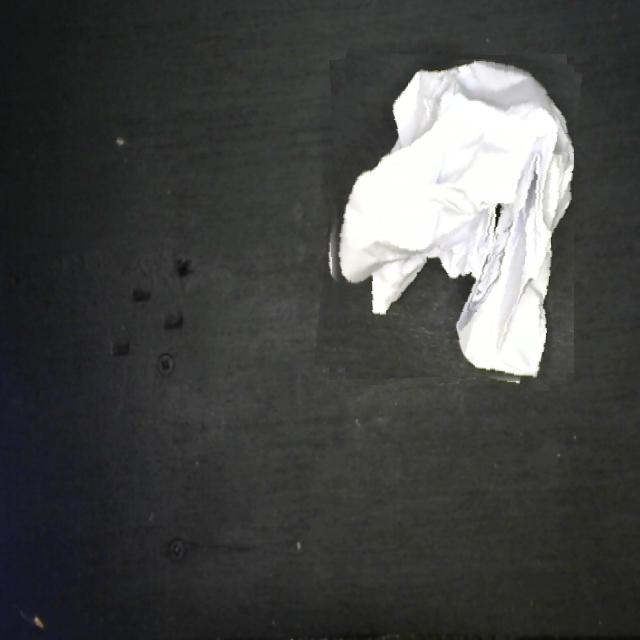biodegradable: (321, 54, 574, 386)
